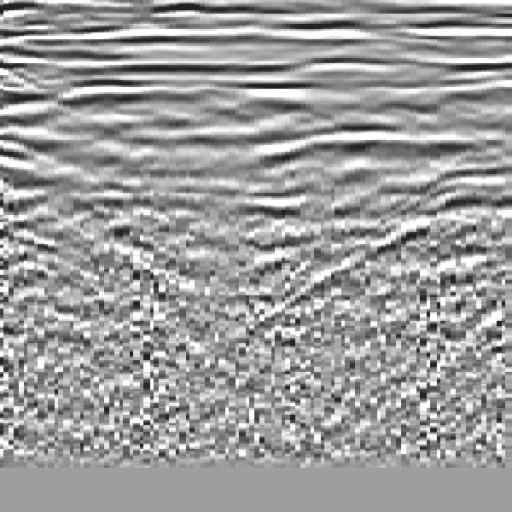metalic: (17, 47, 209, 268)
